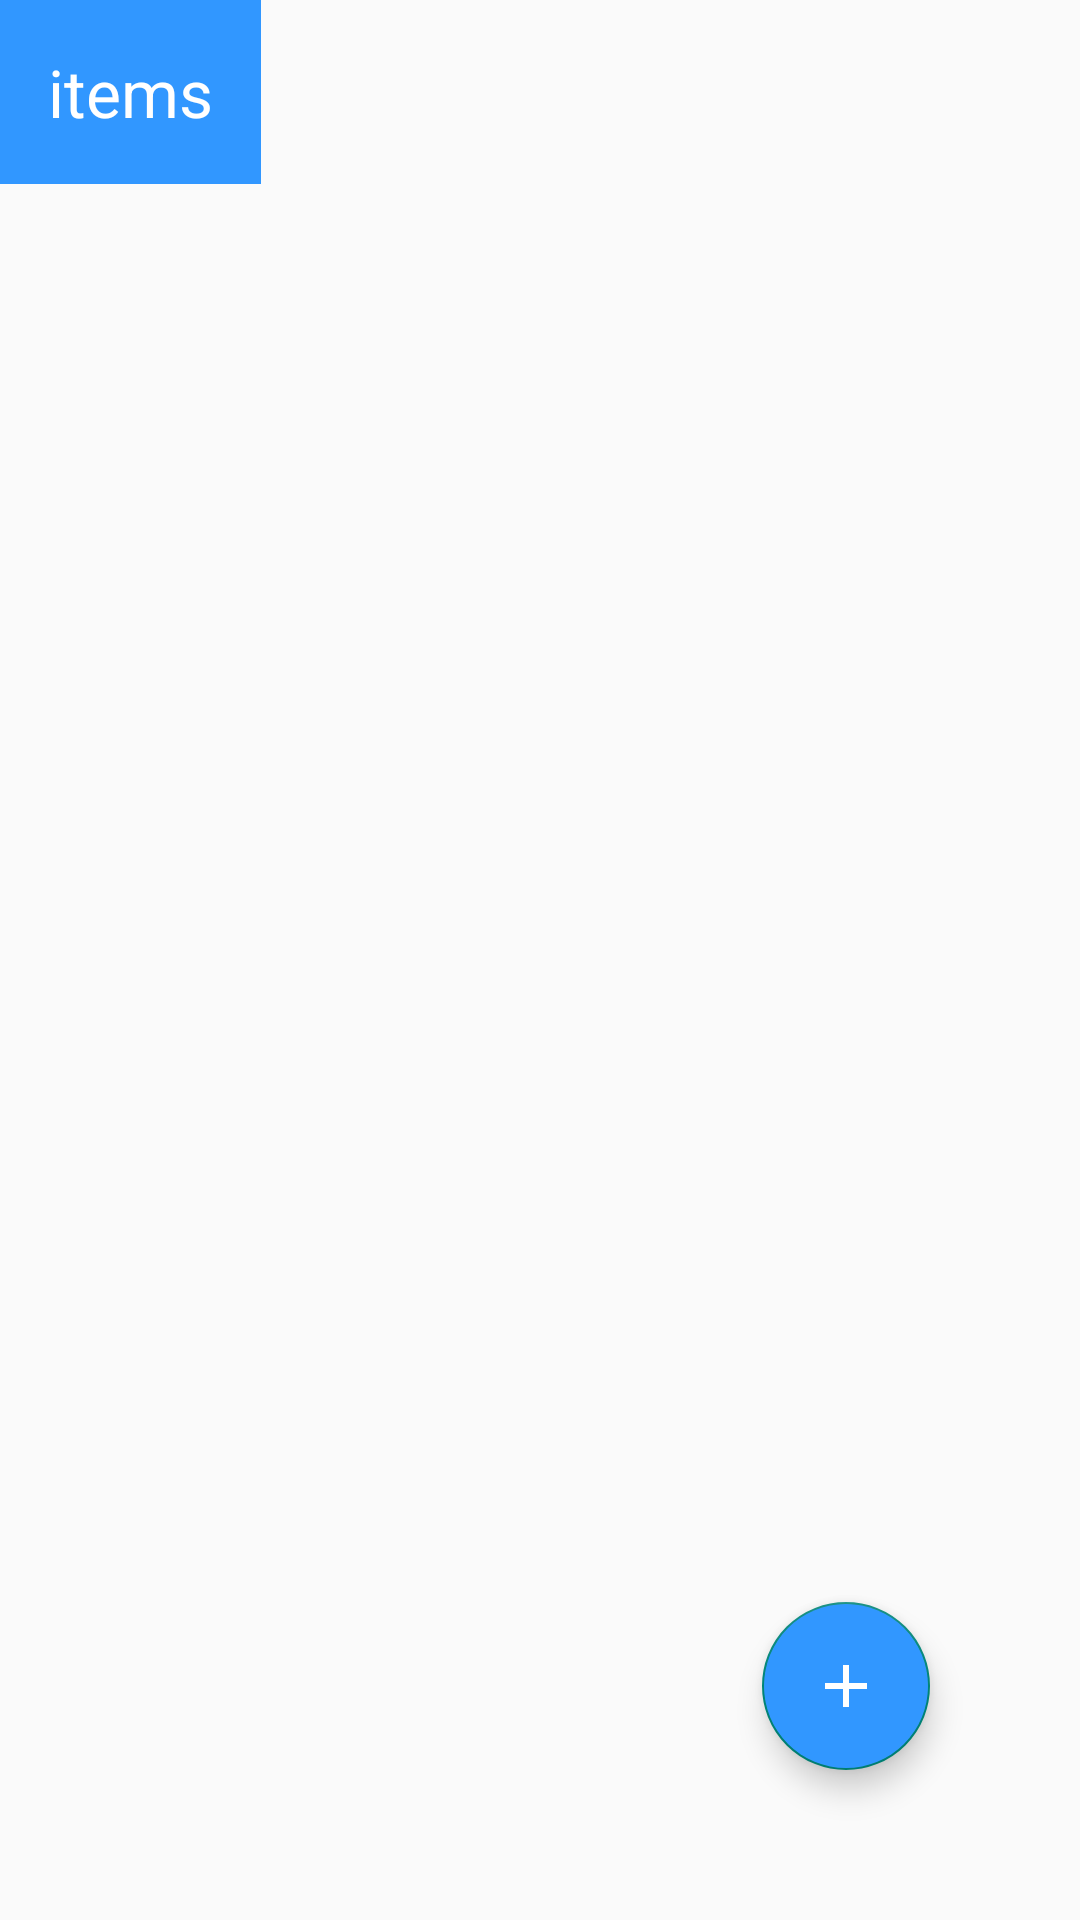

Named icons in this screenshot (1080px×1920px) and their centers, (x=x, y=y):
add new item: (x=846, y=1686)
